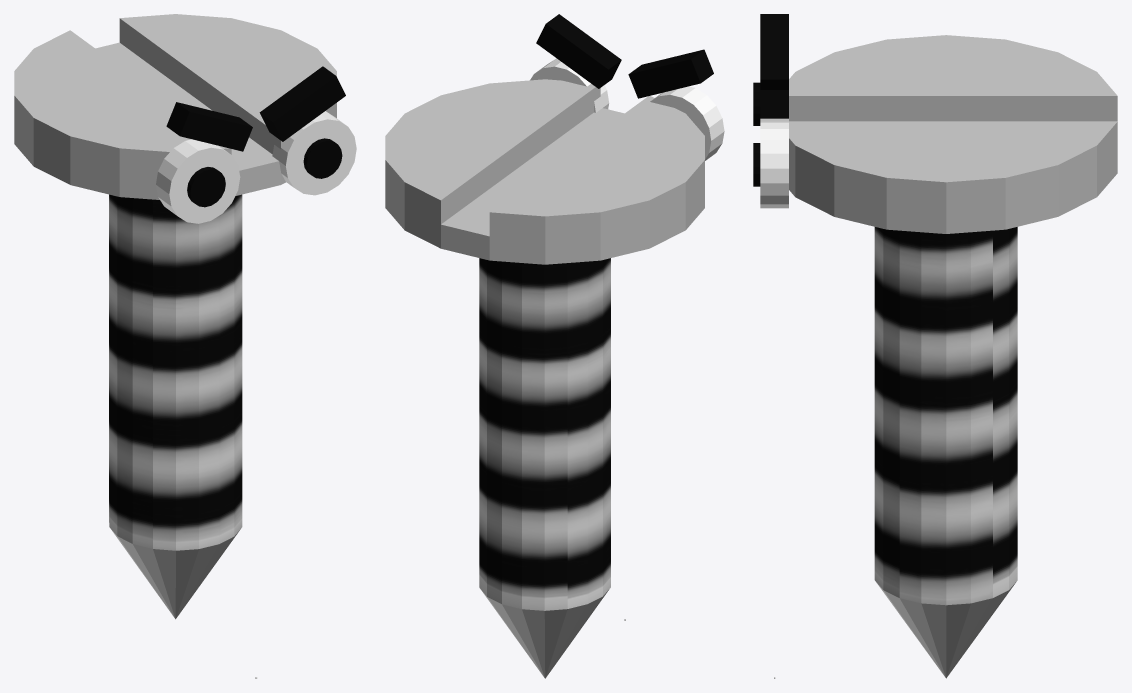
File: screwNotAnimated.fbx
3 views of the same model, side by side, from view 1: azimuth 30°, elevation 25°; view 2: azimuth 150°, elevation 25°; view 3: azimuth 270°, elevation 25° (orthographic). The views are drawn at different scales.
Parts seen in each view (by area): view 1: nail body, cuboid_1, cuboid, nail head, pupil, nail tip, pupil_1, eyebrow, eyebrow_1, iris_1, iris; view 2: nail body, cuboid_1, cuboid, nail head, nail tip, eyebrow, eyebrow_1, pupil, pupil_1; view 3: nail body, cuboid, cuboid_1, nail head, nail tip, pupil_1, eyebrow_1, eyebrow.
Boxes of the visible parts, bbox=[...] form: nail body: bbox=[109, 194, 242, 550]; cuboid_1: bbox=[14, 30, 231, 175]; cuboid: bbox=[119, 14, 336, 154]; nail head: bbox=[14, 42, 285, 199]; pupil: bbox=[156, 139, 240, 223]; nail tip: bbox=[110, 528, 240, 619]; pupil_1: bbox=[272, 111, 356, 195]; eyebrow: bbox=[259, 66, 345, 141]; eyebrow_1: bbox=[166, 102, 252, 151]; iris_1: bbox=[303, 138, 342, 178]; iris: bbox=[187, 167, 225, 207]; nail body: bbox=[479, 258, 610, 610]; cuboid_1: bbox=[489, 95, 704, 240]; cuboid: bbox=[385, 79, 600, 224]; nail head: bbox=[385, 108, 704, 264]; nail tip: bbox=[480, 589, 609, 678]; eyebrow: bbox=[536, 14, 621, 88]; eyebrow_1: bbox=[628, 49, 713, 98]; pupil: bbox=[650, 86, 724, 160]; pupil_1: bbox=[530, 58, 609, 112]; nail body: bbox=[874, 227, 1017, 605]; cuboid: bbox=[789, 121, 1117, 208]; cuboid_1: bbox=[789, 35, 1117, 121]; nail head: bbox=[789, 148, 1117, 233]; nail tip: bbox=[876, 582, 1015, 678]; pupil_1: bbox=[760, 121, 788, 208]; eyebrow_1: bbox=[760, 14, 788, 89]; eyebrow: bbox=[760, 90, 788, 118].
Size of the model in its own units: 76.16 by 151 by 79.69.
5 materials, 5 textured.
